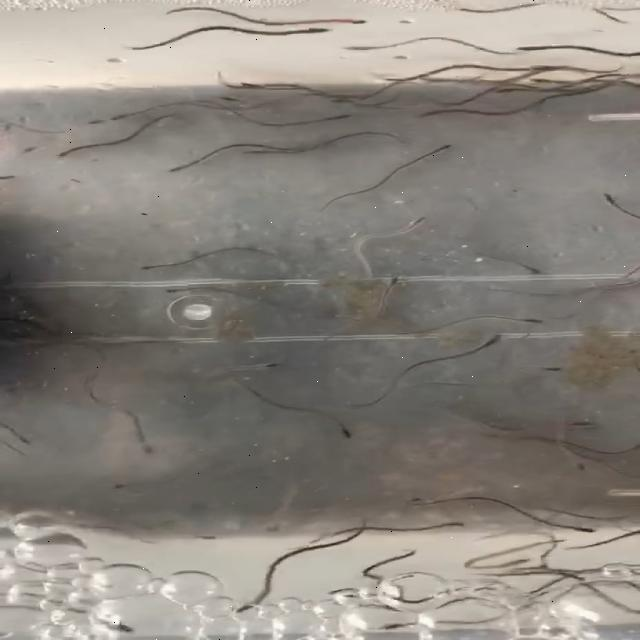active_glass_eel: (92, 616, 140, 636), (366, 616, 414, 635), (562, 450, 598, 474), (51, 140, 92, 160), (223, 596, 266, 614), (421, 518, 473, 532), (399, 214, 434, 234), (512, 260, 550, 278), (562, 519, 600, 537), (550, 570, 588, 588), (515, 41, 563, 55), (336, 10, 376, 26), (210, 90, 255, 104), (136, 426, 156, 456), (522, 364, 568, 377), (486, 558, 534, 570), (338, 41, 384, 53), (471, 331, 505, 347), (78, 116, 116, 130), (414, 142, 458, 154), (161, 158, 194, 174), (600, 188, 626, 208), (22, 142, 54, 158), (332, 424, 356, 442), (318, 110, 361, 120), (138, 258, 168, 272), (240, 360, 278, 371), (298, 22, 330, 34), (519, 76, 549, 88), (378, 265, 393, 289), (509, 315, 545, 325), (489, 85, 517, 97), (242, 148, 275, 158)
